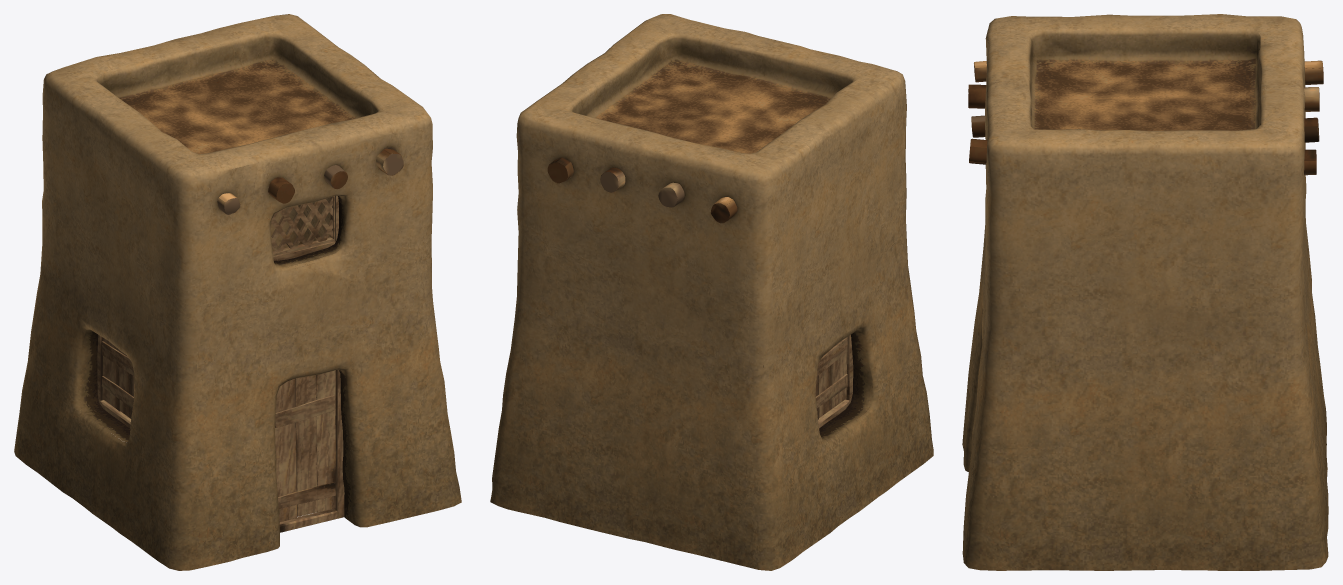
File: mudtower.glb
3 renders of one model, left to right at view 1: azimuth 30°, elevation 25°; view 2: azimuth 150°, elevation 25°; view 3: azimuth 270°, elevation 25°, orthographic. The views are drawn at different scales.
Parts seen in each view (by area): view 1: Plane; view 2: Plane; view 3: Plane.
Boxes of the visible parts, x1,y1,x2,y2 form: Plane: (14, 14, 461, 570); Plane: (490, 14, 933, 570); Plane: (962, 14, 1328, 570).
Size of the model in its own units: 3.65 by 4.57 by 3.65.
Materials: 1 (1 with a texture image).
